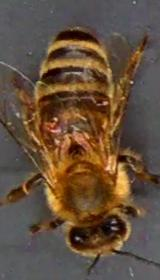varroa_mite: (35, 114, 67, 133)
